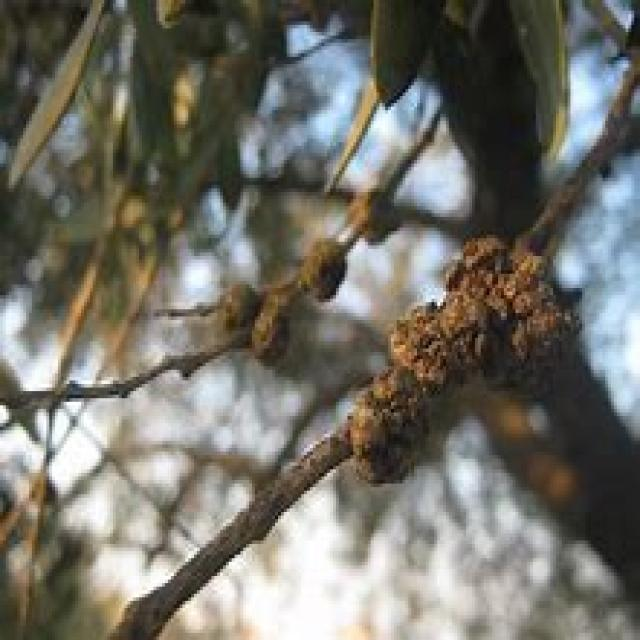Tuberculosis: (345, 238, 576, 480), (214, 279, 290, 363), (350, 181, 397, 242), (301, 238, 345, 299)
